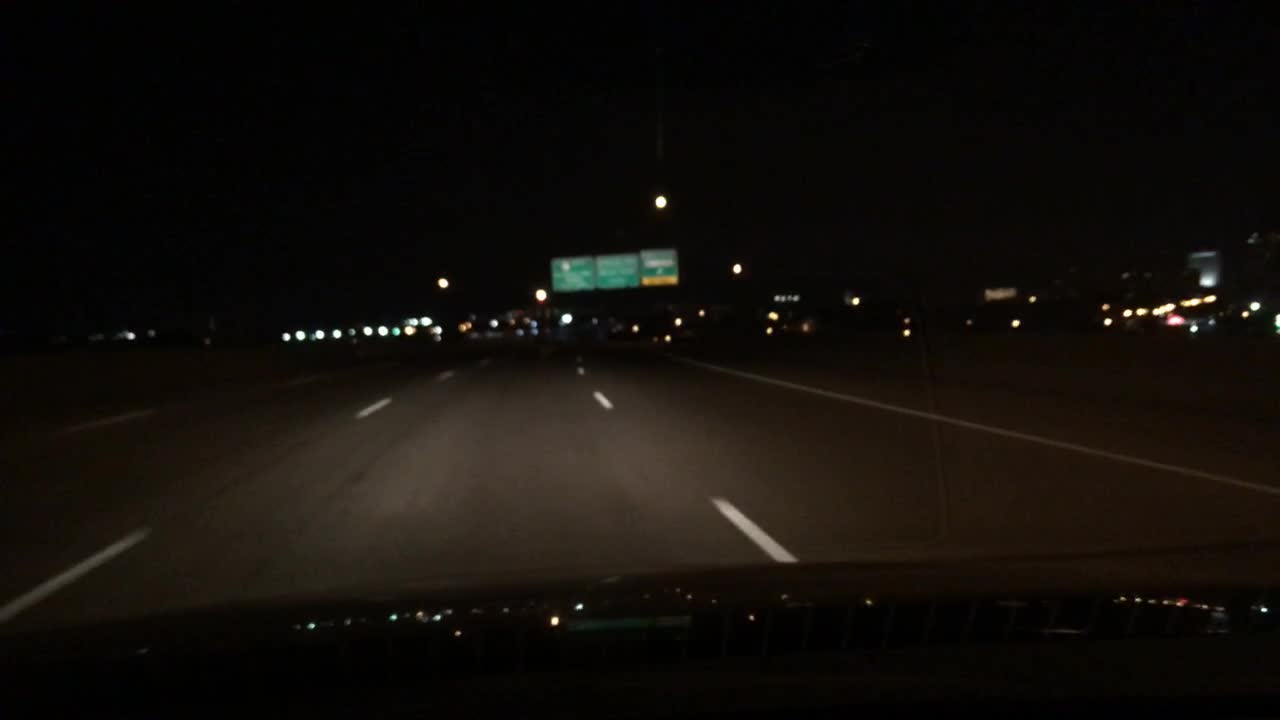car: (461, 315, 538, 359)
traffic sign: (593, 253, 639, 289), (640, 249, 681, 287), (551, 257, 596, 290)
